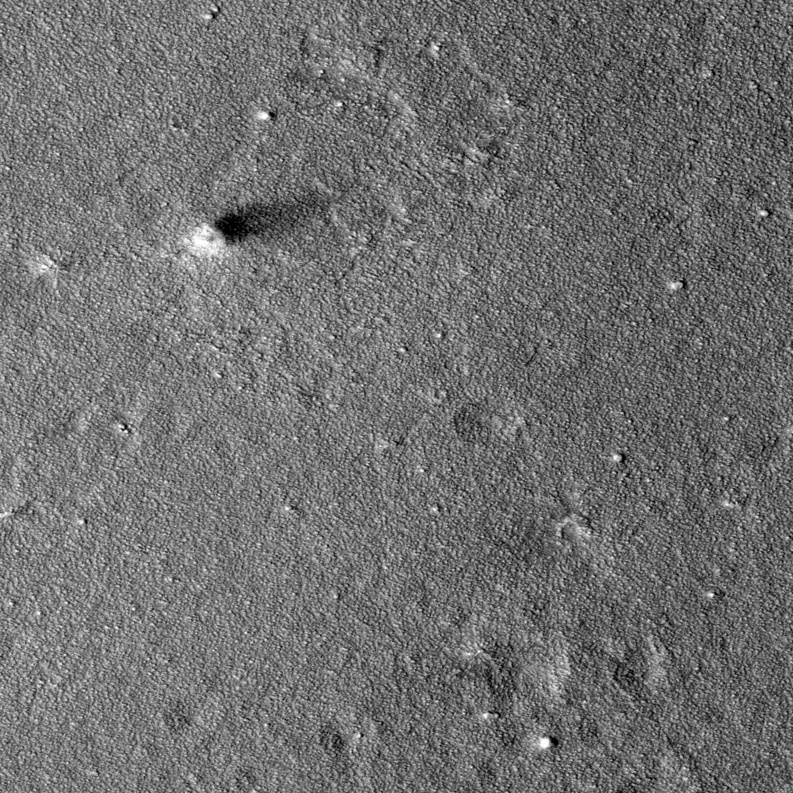dust_devil: (183, 187, 333, 261)
